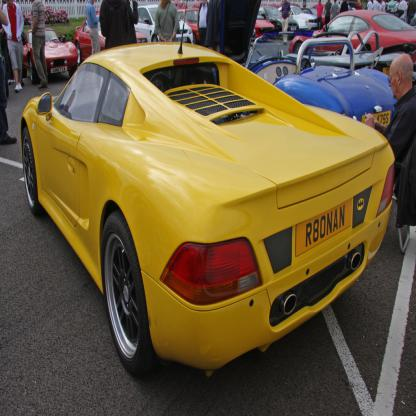Car: (23, 0, 415, 380)
